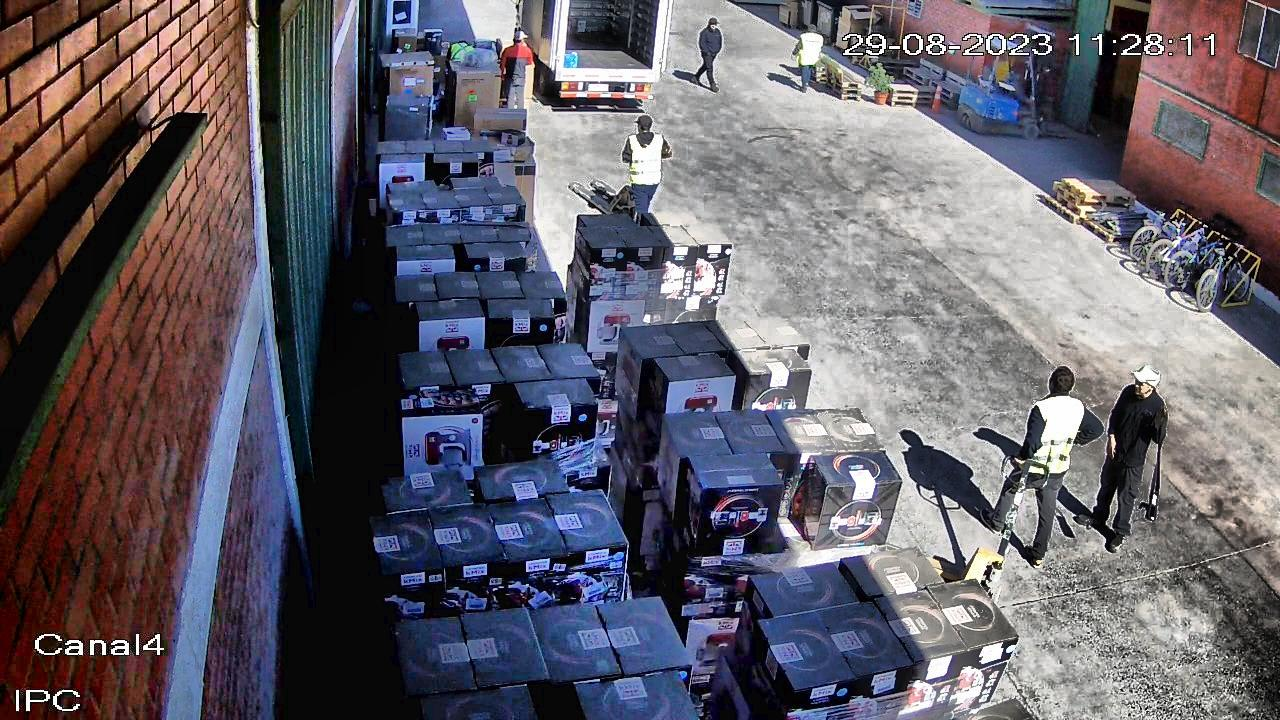con-casco: (511, 28, 529, 44)
con-chaleco: (1020, 392, 1088, 479), (627, 131, 662, 185), (799, 32, 824, 67), (449, 42, 474, 72)
persona: (978, 360, 1107, 569), (1077, 364, 1169, 558), (619, 112, 674, 244), (498, 28, 535, 117), (788, 21, 825, 94), (443, 35, 478, 106)
sin-casco: (689, 16, 725, 92), (1132, 363, 1162, 398), (1046, 364, 1078, 396), (634, 112, 655, 133), (802, 22, 821, 33)
sin-chaleco: (1104, 382, 1168, 466), (505, 43, 529, 82), (698, 25, 724, 53), (706, 16, 720, 32)
